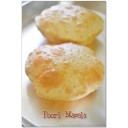poori: (23, 44, 104, 102), (35, 3, 105, 42)
